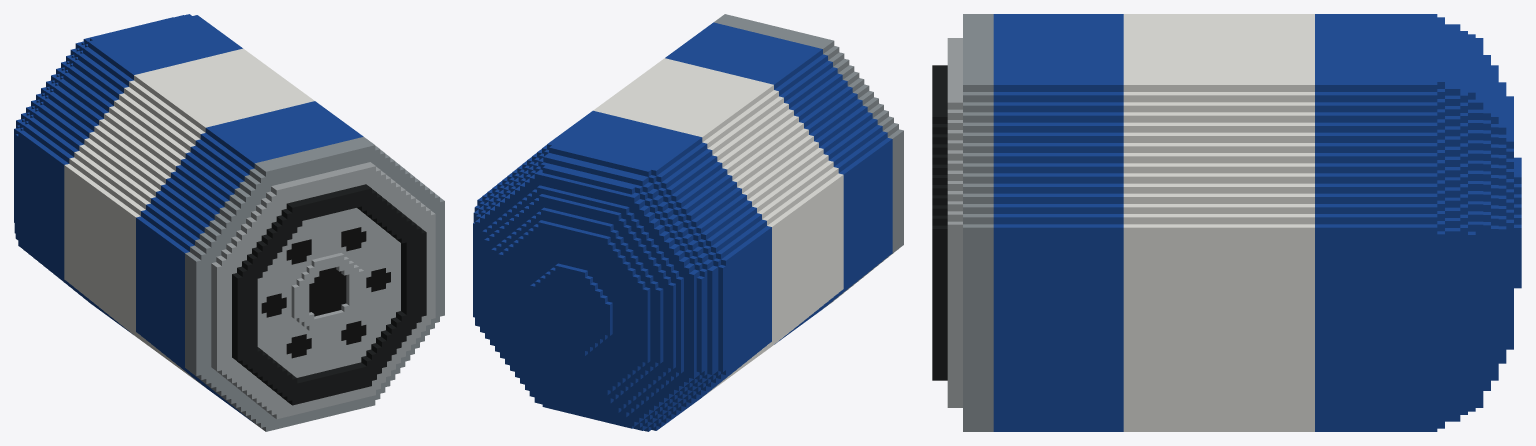
The model's file is filter_liquid.glb.
The picture shows the model from 3 angles, left to right: view 1: azimuth 30°, elevation 25°; view 2: azimuth 150°, elevation 25°; view 3: azimuth 270°, elevation 25°; orthographic projection. The views are drawn at different scales.
Parts seen in each view (by area): view 1: filter_liquid:compound; view 2: filter_liquid:compound; view 3: filter_liquid:compound.
Boxes of the visible parts, x1,y1,x2,y2 form: filter_liquid:compound: [14, 14, 444, 431]; filter_liquid:compound: [473, 14, 903, 431]; filter_liquid:compound: [932, 14, 1521, 431].
Bounding box in the file's own units: 0.1 × 0.1 × 0.154.
